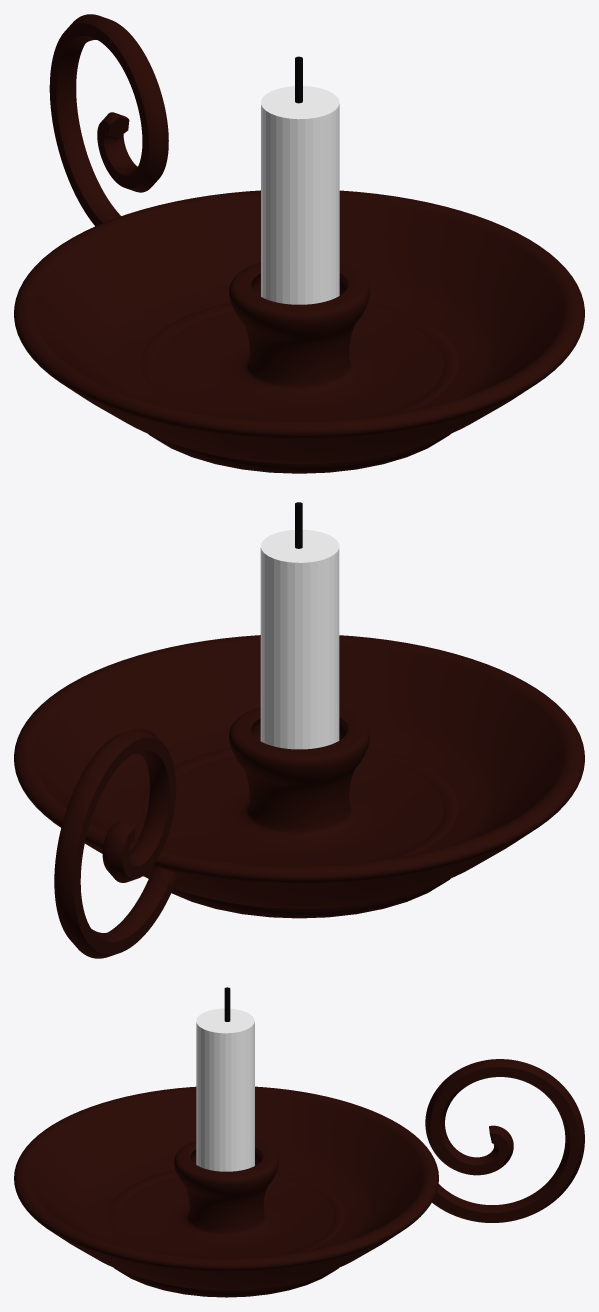
Rendered from vela.obj.
The picture shows the model from 3 angles, top to bottom: view 1: azimuth 30°, elevation 25°; view 2: azimuth 150°, elevation 25°; view 3: azimuth 270°, elevation 25°; orthographic projection. The views are drawn at different scales.
Parts seen in each view (by area): view 1: vela; view 2: vela; view 3: vela.
Part boxes in pixels (left/top/right/bottom): vela: left=14, top=14, right=584, bottom=473; vela: left=14, top=502, right=584, bottom=958; vela: left=14, top=987, right=584, bottom=1297.
Bounding box in the file's own units: 0.362 × 0.2427 × 0.4866.
